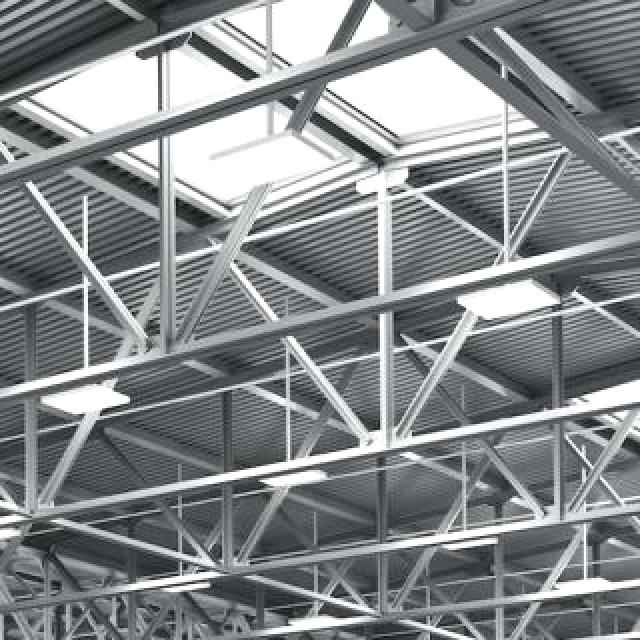fluorescent tube: (440, 536, 520, 556), (284, 612, 360, 632), (165, 582, 233, 602)
